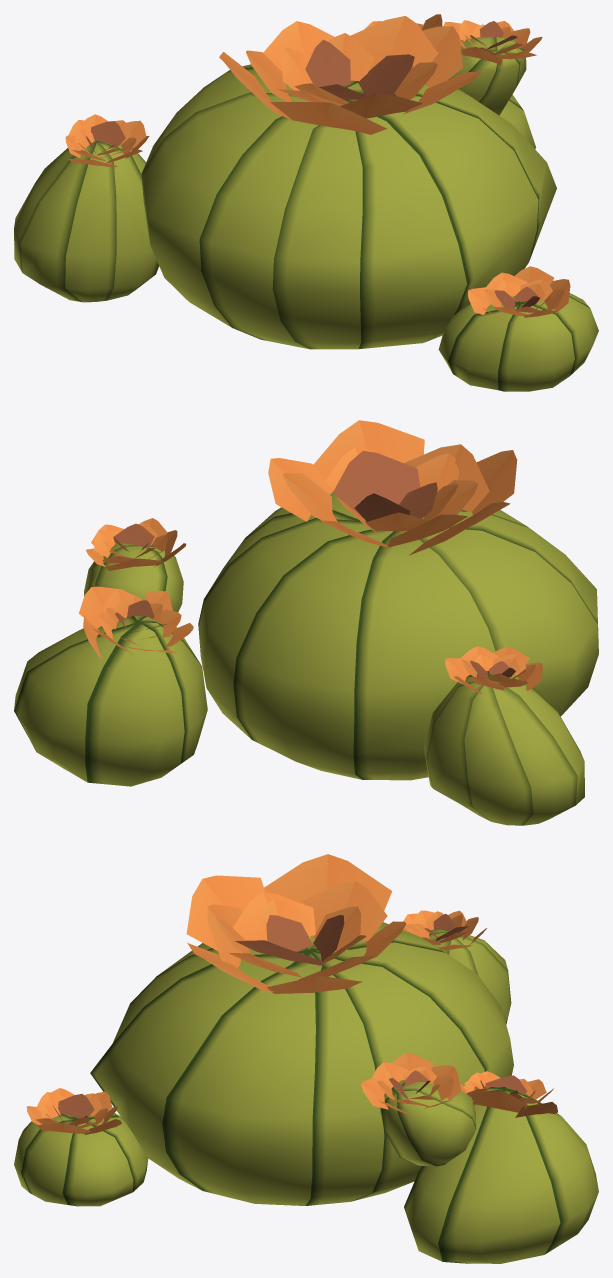
Rendered from BR_Cactus_1x0.5x1.fbx.
The picture shows the model from 3 angles, top to bottom: view 1: azimuth 30°, elevation 25°; view 2: azimuth 150°, elevation 25°; view 3: azimuth 270°, elevation 25°; orthographic projection. The views are drawn at different scales.
Parts seen in each view (by area): view 1: BR_Cactus_1x05x1; view 2: BR_Cactus_1x05x1; view 3: BR_Cactus_1x05x1.
Part boxes in pixels (x1=…): BR_Cactus_1x05x1: x1=14, y1=14, x2=598, y2=391; BR_Cactus_1x05x1: x1=14, y1=420, x2=598, y2=825; BR_Cactus_1x05x1: x1=14, y1=854, x2=598, y2=1263.
Bounding box in the file's own units: 102 × 50.83 × 101.
